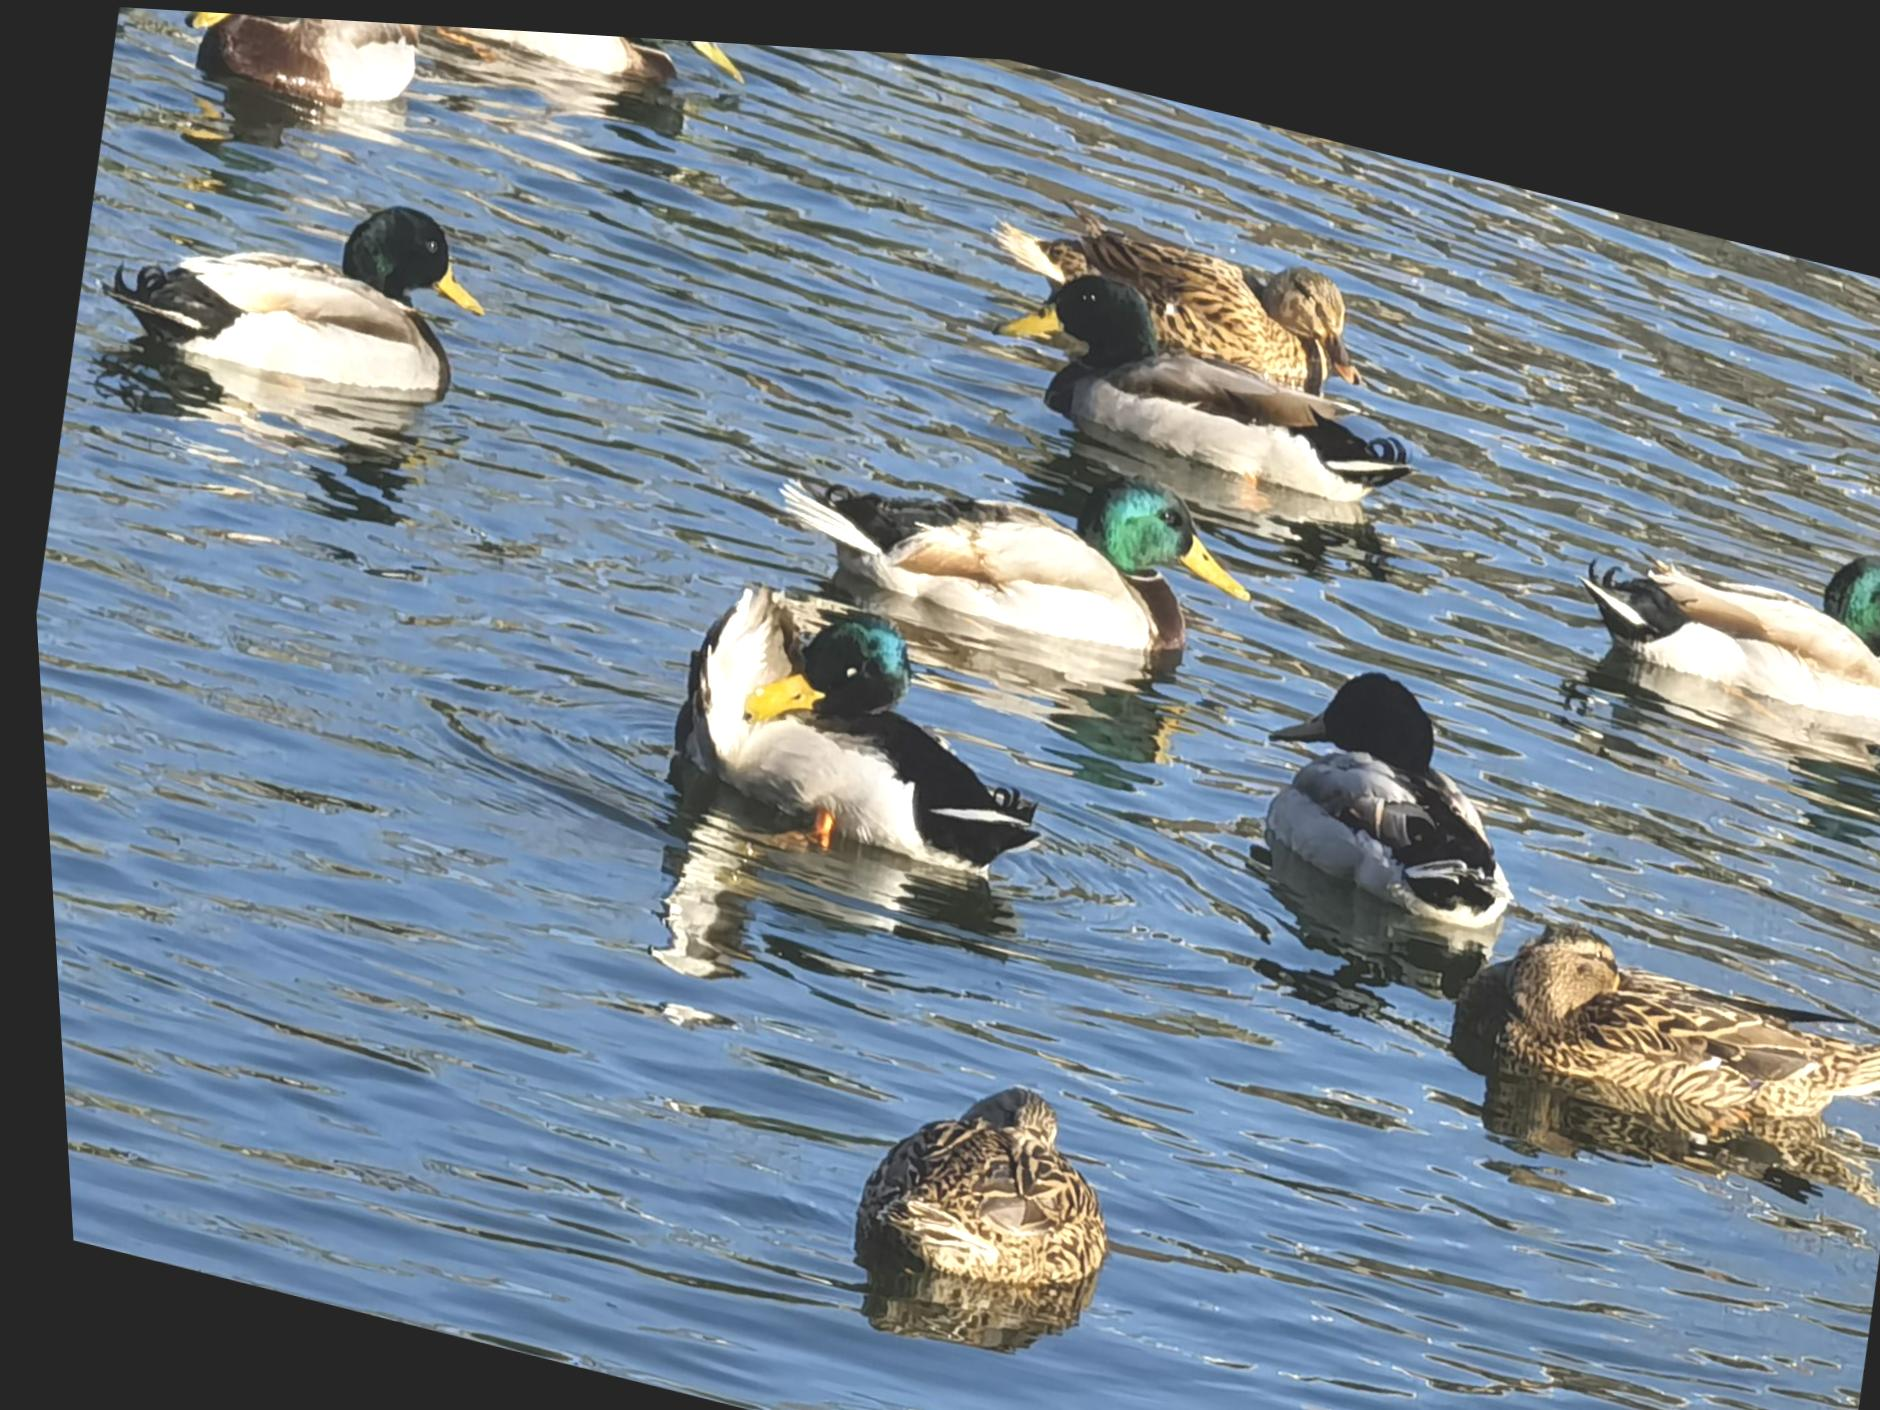duck: (748, 390, 1258, 672), (653, 567, 1067, 899), (974, 227, 1424, 514), (89, 127, 499, 418), (1454, 890, 1880, 1148), (973, 170, 1380, 394), (1227, 628, 1532, 921), (820, 1035, 1132, 1303), (1556, 471, 1880, 727), (324, 15, 759, 87), (179, 9, 438, 121)
